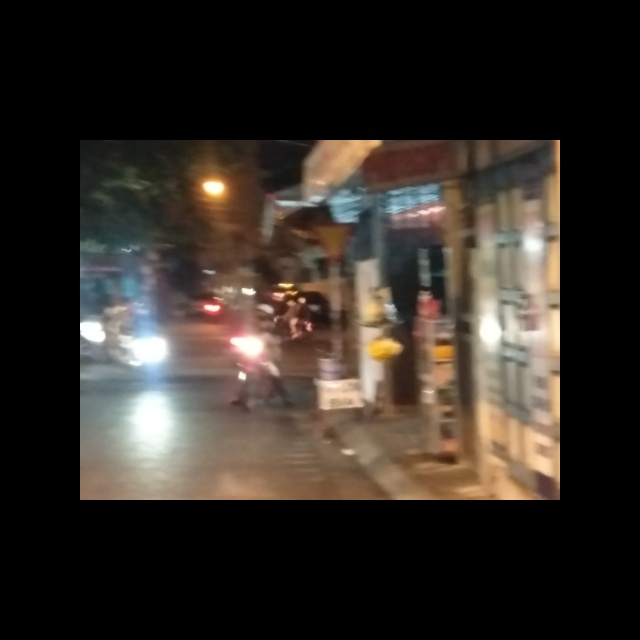Giao nhau với đường ưu tiên: (311, 222, 358, 265)
